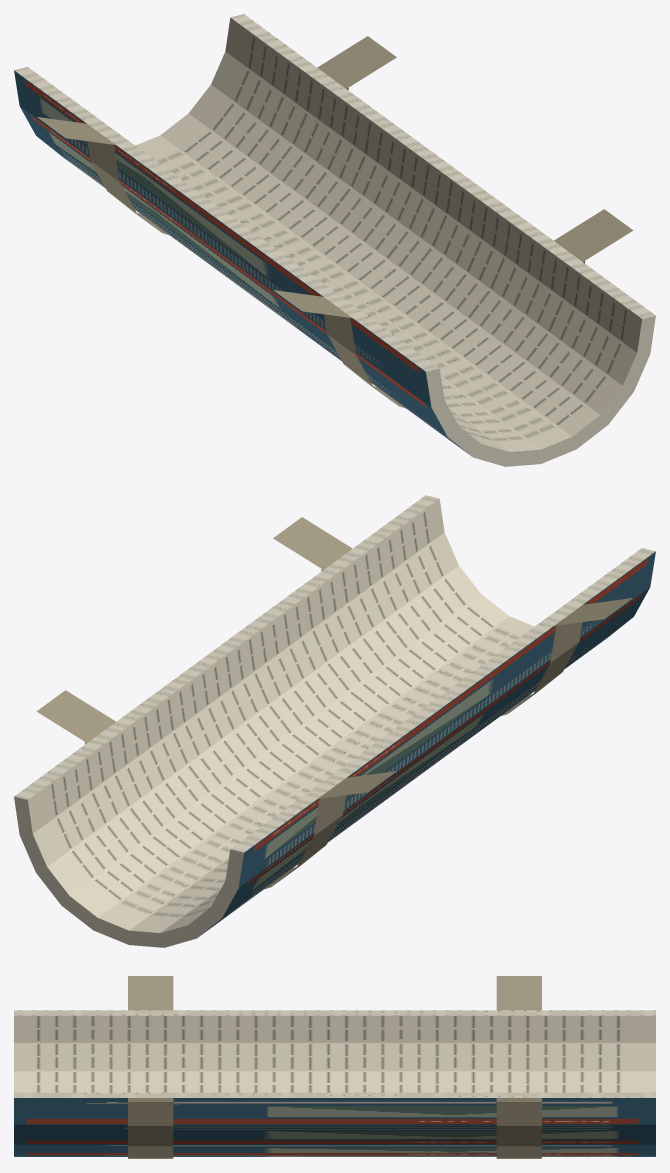
Rendered from splint.glb.
The picture shows the model from 3 angles, top to bottom: view 1: azimuth 30°, elevation 25°; view 2: azimuth 150°, elevation 25°; view 3: azimuth 270°, elevation 25°; orthographic projection. The views are drawn at different scales.
Visible parts, largest first — view 1: splint; view 2: splint; view 3: splint.
Part boxes in pixels (bbox=[...]): splint: bbox=[14, 14, 655, 466]; splint: bbox=[14, 495, 655, 947]; splint: bbox=[14, 976, 655, 1158].
Bounding box in the file's own units: 0.144 × 0.059 × 0.31.
Materials: 1 (1 with a texture image).
